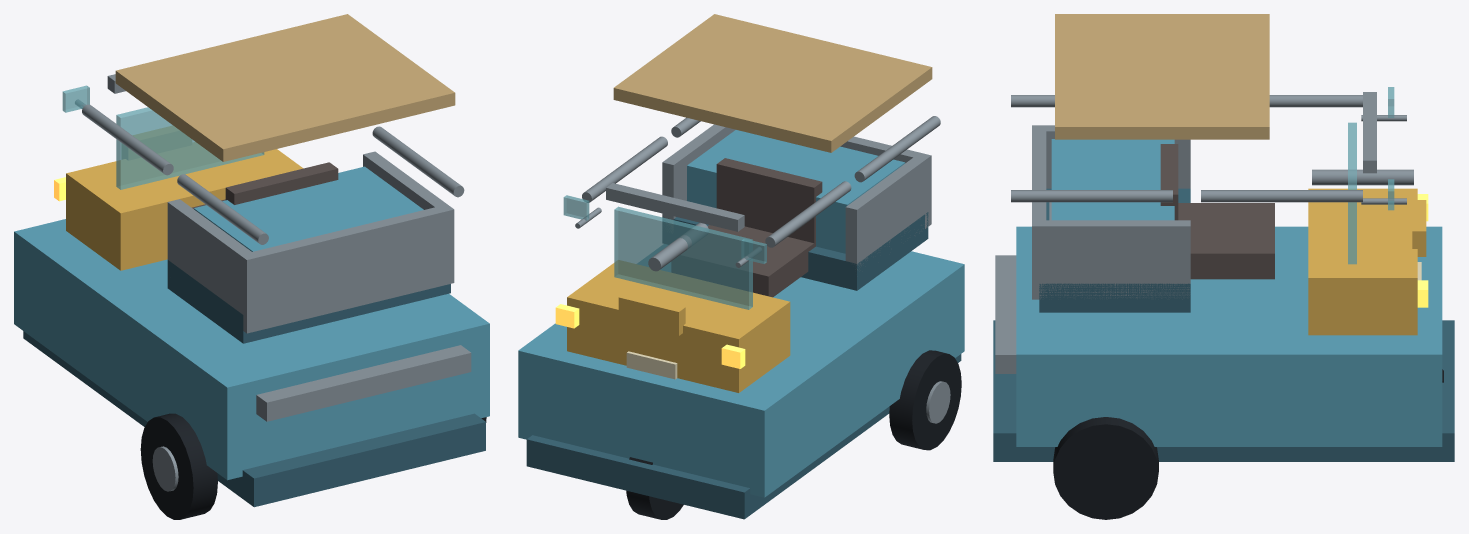
The model's file is three_wheel_delivery_atlas_candidate.glb.
3 views of the same model, side by side, from view 1: azimuth 30°, elevation 25°; view 2: azimuth 150°, elevation 25°; view 3: azimuth 270°, elevation 25° (orthographic). The views are drawn at different scales.
Visible parts, largest first — view 1: 候选三轮车车体, 候选三轮车顶篷, 候选三轮车货架后栏, 候选三轮车前挡板, 候选三轮车底盘, 候选三轮车货箱, 候选三轮车后保险杠, 候选三轮车货架左栏, 候选三轮车左后轮胎, 候选三轮车挡风玻璃, 候选三轮车货架, 候选三轮车顶篷后支柱 (×2) (+6 smaller); view 2: 候选三轮车车体, 候选三轮车顶篷, 候选三轮车前挡板, 候选三轮车挡风玻璃, 候选三轮车底盘, 候选三轮车货箱, 候选三轮车座椅, 候选三轮车靠背, 候选三轮车货架左栏, 候选三轮车左后轮胎, 候选三轮车货架, 候选三轮车车把 (+13 smaller); view 3: 候选三轮车车体, 候选三轮车顶篷, 候选三轮车前挡板, 候选三轮车货架右栏, 候选三轮车底盘, 候选三轮车右后轮胎, 候选三轮车货箱, 候选三轮车座椅, 候选三轮车货架, 候选三轮车顶篷前支柱 (×2), 候选三轮车顶篷后支柱 (×2), 候选三轮车后保险杠 (+7 smaller).
Boxes of the visible parts, x1,y1,x2,y2 form: 候选三轮车车体: (14, 219, 489, 480); 候选三轮车顶篷: (115, 14, 455, 161); 候选三轮车货架后栏: (240, 204, 454, 333); 候选三轮车前挡板: (66, 142, 303, 270); 候选三轮车底盘: (23, 331, 485, 507); 候选三轮车货箱: (194, 166, 423, 251); 候选三轮车后保险杠: (256, 345, 471, 421); 候选三轮车货架左栏: (167, 199, 253, 313); 候选三轮车左后轮胎: (140, 413, 217, 519); 候选三轮车挡风玻璃: (116, 107, 264, 189); 候选三轮车货架: (167, 260, 450, 343); 候选三轮车顶篷后支柱 (×2): (177, 126, 464, 244); 候选三轮车车体: (518, 244, 964, 497); 候选三轮车顶篷: (613, 14, 932, 152); 候选三轮车前挡板: (567, 260, 790, 392); 候选三轮车挡风玻璃: (614, 206, 752, 309); 候选三轮车底盘: (526, 354, 961, 519); 候选三轮车货箱: (687, 130, 905, 253); 候选三轮车座椅: (671, 225, 814, 297); 候选三轮车靠背: (716, 158, 822, 246); 候选三轮车货架左栏: (845, 157, 928, 269); 候选三轮车左后轮胎: (889, 350, 961, 450); 候选三轮车货架: (662, 212, 928, 290); 候选三轮车车把: (606, 183, 744, 231); 候选三轮车车体: (1016, 226, 1442, 446); 候选三轮车顶篷: (1055, 14, 1269, 139); 候选三轮车前挡板: (1308, 188, 1417, 335); 候选三轮车货架右栏: (1039, 220, 1190, 299); 候选三轮车底盘: (993, 320, 1454, 461); 候选三轮车右后轮胎: (1053, 417, 1158, 519); 候选三轮车货箱: (1051, 139, 1174, 220); 候选三轮车座椅: (1178, 203, 1274, 279); 候选三轮车货架: (1039, 188, 1190, 312); 候选三轮车顶篷前支柱 (×2): (1201, 95, 1362, 202); 候选三轮车顶篷后支柱 (×2): (1011, 95, 1172, 202); 候选三轮车后保险杠: (995, 255, 1016, 373).
Bounding box in the file's own units: 1.94 × 2.37 × 2.62.
3 materials, 1 textured.
